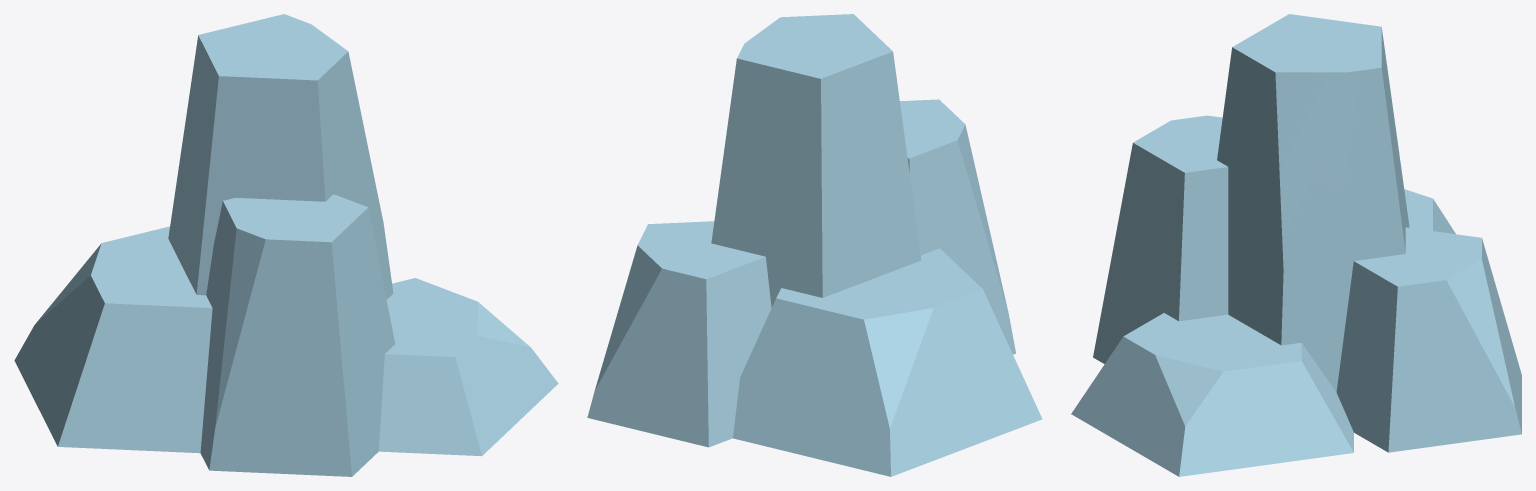
Rendered from rockLarge.dae.
3 views of the same model, side by side, from view 1: azimuth 30°, elevation 25°; view 2: azimuth 150°, elevation 25°; view 3: azimuth 270°, elevation 25° (orthographic). The views are drawn at different scales.
Parts seen in each view (by area): view 1: rockLarge; view 2: rockLarge; view 3: rockLarge.
Part boxes in pixels (box(x1,y1,x2,y2)): rockLarge: box(14, 14, 558, 476); rockLarge: box(587, 14, 1042, 476); rockLarge: box(1071, 14, 1521, 476).
Bounding box in the file's own units: 1.6 × 1.16 × 1.45.
